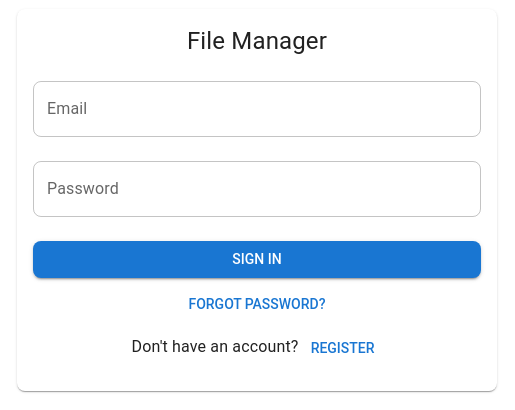
Test case: App integration tests › clicking "Forgot password?" on login navigates to /forgot-password
Check: the button "Sign In" is shown, box [33,242,481,278]
# Click "Forgot password?"
Click the button "Forgot password?" at (257, 304), box [33,286,481,322]
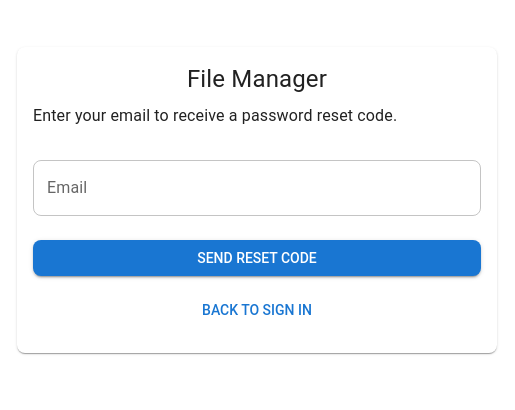
Check: the button "Send Reset Code" is shown, box [33,240,481,276]
